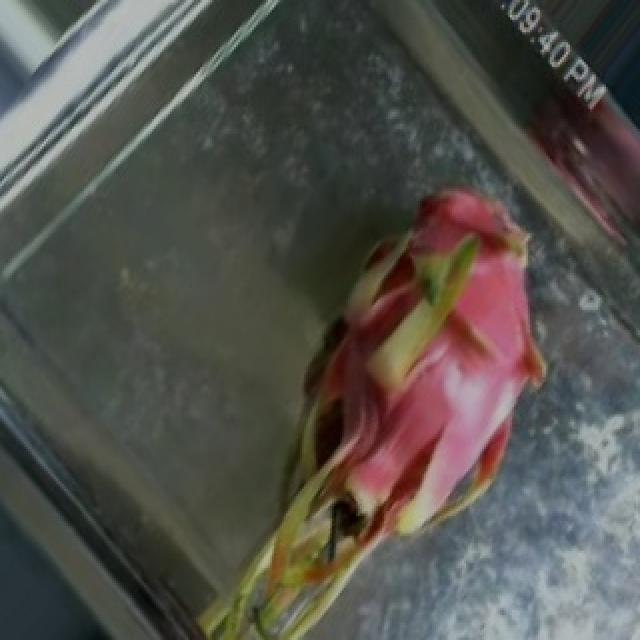fruit: (176, 163, 618, 640)
